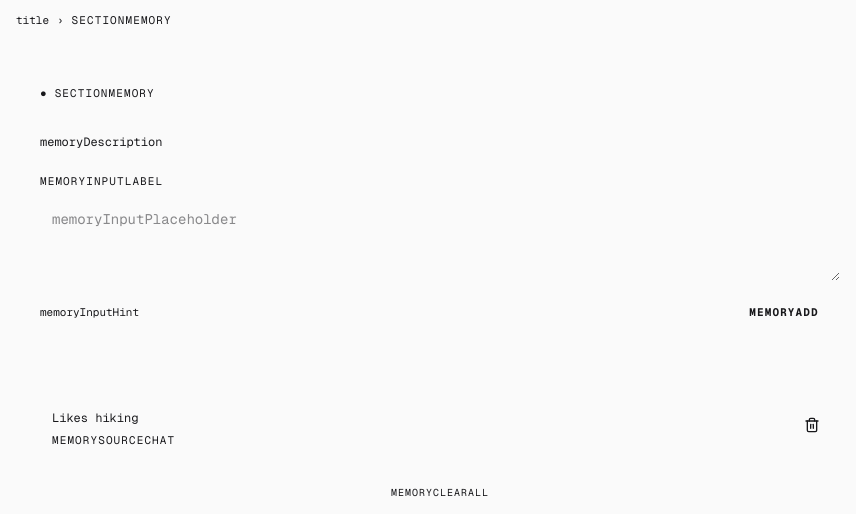
Test: memory settings page › keeps a memory visible when deletion fails
Click the button named "memoryDeleteLabel: Likes hiking": click(812, 424) 796,408 -> 828,440
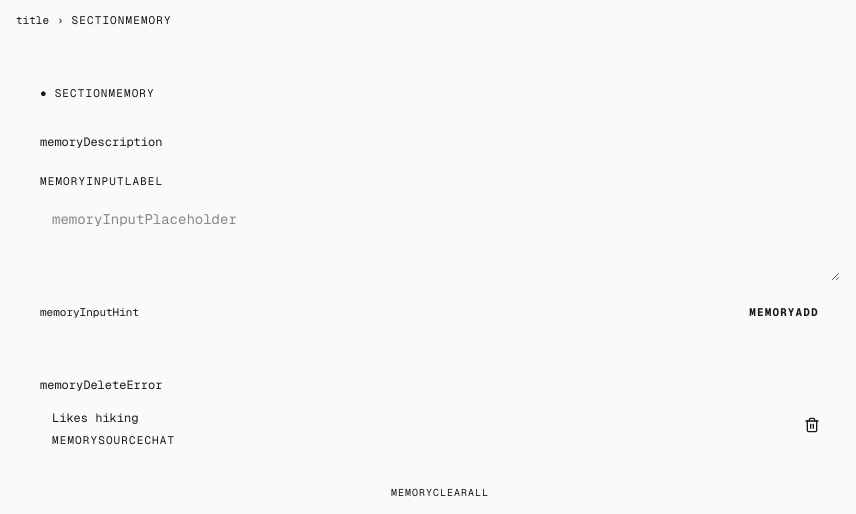
Expected: the text "Likes hiking" is shown, 52,410 -> 138,426
Result: the text "memoryDeleteError" is shown at 40,376 -> 162,392
